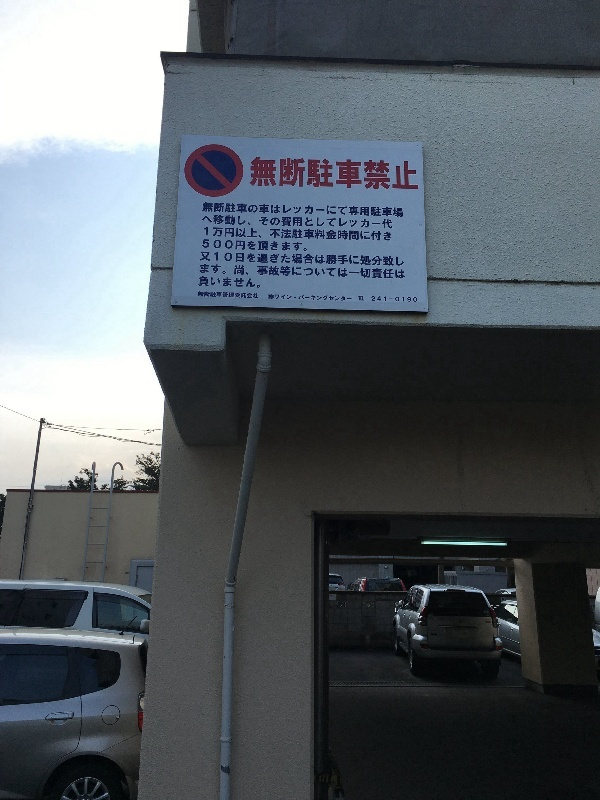text: (257, 157, 272, 192), (273, 157, 288, 192), (289, 157, 304, 192), (305, 157, 320, 192), (321, 157, 336, 192), (337, 157, 352, 192), (353, 157, 368, 192), (369, 157, 384, 192), (385, 157, 400, 192), (401, 157, 416, 192), (209, 202, 224, 219), (225, 202, 240, 219), (241, 202, 256, 219), (257, 202, 272, 219), (273, 202, 288, 219), (289, 202, 304, 219), (305, 202, 320, 219), (321, 202, 336, 219), (337, 202, 352, 219), (353, 202, 368, 219), (369, 202, 384, 219), (385, 202, 400, 219), (209, 249, 224, 266), (225, 249, 240, 266), (241, 249, 256, 266), (257, 249, 272, 266), (273, 249, 288, 266), (289, 249, 304, 266), (305, 249, 320, 266), (321, 249, 336, 266), (337, 249, 352, 266), (353, 249, 368, 266), (369, 249, 384, 266), (385, 249, 400, 266), (257, 265, 272, 280), (273, 265, 288, 280), (289, 265, 304, 280), (305, 265, 320, 280), (321, 265, 336, 280), (337, 265, 352, 280), (353, 265, 368, 280), (369, 265, 384, 280), (385, 265, 400, 280), (209, 239, 224, 253), (225, 239, 240, 253), (241, 239, 256, 253), (257, 239, 272, 253), (273, 239, 288, 253), (289, 239, 304, 253), (209, 276, 224, 290), (225, 276, 240, 290), (241, 276, 256, 290), (273, 229, 288, 243), (289, 229, 304, 243), (305, 229, 320, 243), (321, 229, 336, 243), (337, 229, 352, 243), (353, 229, 368, 243), (369, 229, 384, 243), (273, 217, 288, 230), (289, 217, 304, 230), (305, 217, 320, 230), (321, 217, 336, 230), (337, 217, 352, 230), (353, 217, 368, 230), (369, 217, 384, 230), (209, 226, 224, 239), (225, 226, 240, 239), (241, 226, 256, 239), (251, 157, 256, 192), (209, 264, 224, 275), (260, 217, 272, 230), (209, 215, 224, 225), (225, 215, 240, 225), (199, 276, 208, 290), (201, 249, 208, 266), (241, 215, 252, 225), (209, 292, 224, 299), (225, 292, 240, 299), (241, 292, 256, 299), (289, 295, 304, 302), (305, 295, 320, 302), (321, 295, 336, 302), (337, 295, 352, 302), (385, 217, 393, 230), (241, 265, 250, 276), (385, 229, 392, 243), (401, 297, 417, 303), (275, 295, 288, 302), (385, 297, 400, 303), (401, 265, 407, 280), (203, 202, 208, 219), (401, 249, 406, 266), (257, 226, 263, 239), (201, 264, 208, 275), (372, 297, 384, 303), (417, 157, 419, 192), (203, 239, 208, 253), (199, 292, 208, 299), (358, 295, 368, 301), (235, 265, 240, 276), (204, 226, 208, 239), (401, 202, 404, 219), (203, 215, 208, 225), (305, 239, 308, 253), (257, 276, 260, 290), (270, 229, 272, 243), (225, 264, 227, 275), (268, 294, 272, 299), (257, 292, 259, 299), (273, 294, 274, 299)
